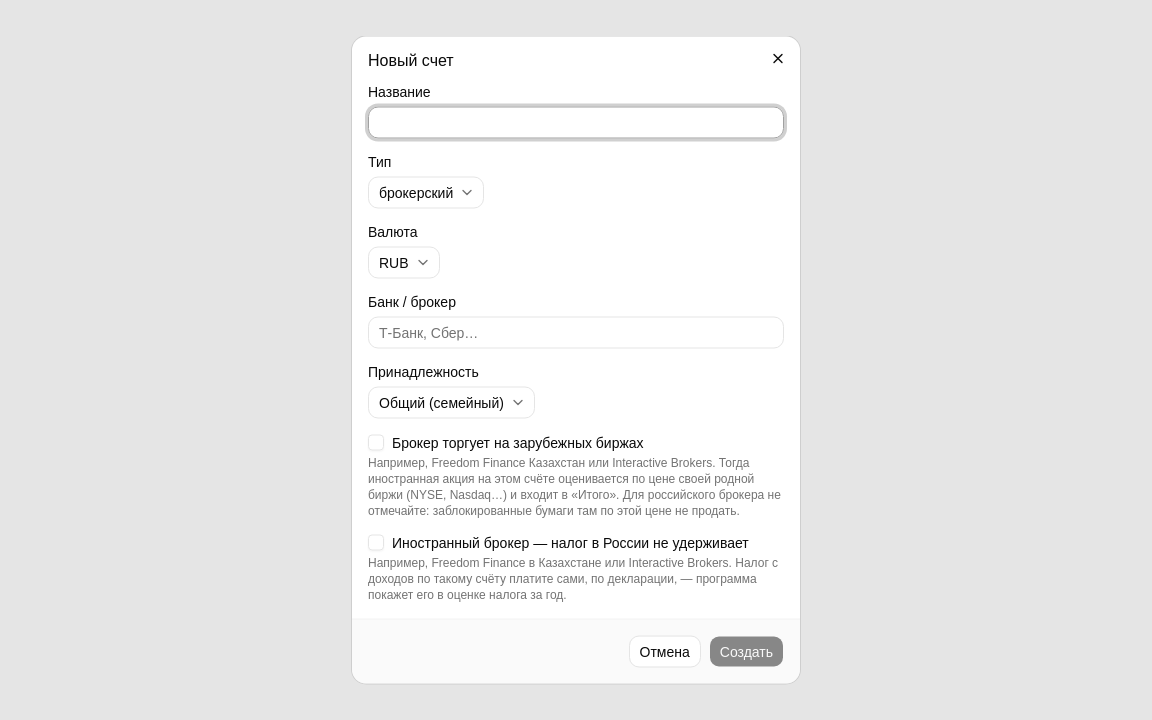
Test: AccountDialog — a refusal from the server › says a new account was not created, in Russian
The image size is (1152, 720).
Type "Новый" into the field labelled "Название" at (576, 122), box [368, 106, 784, 138]
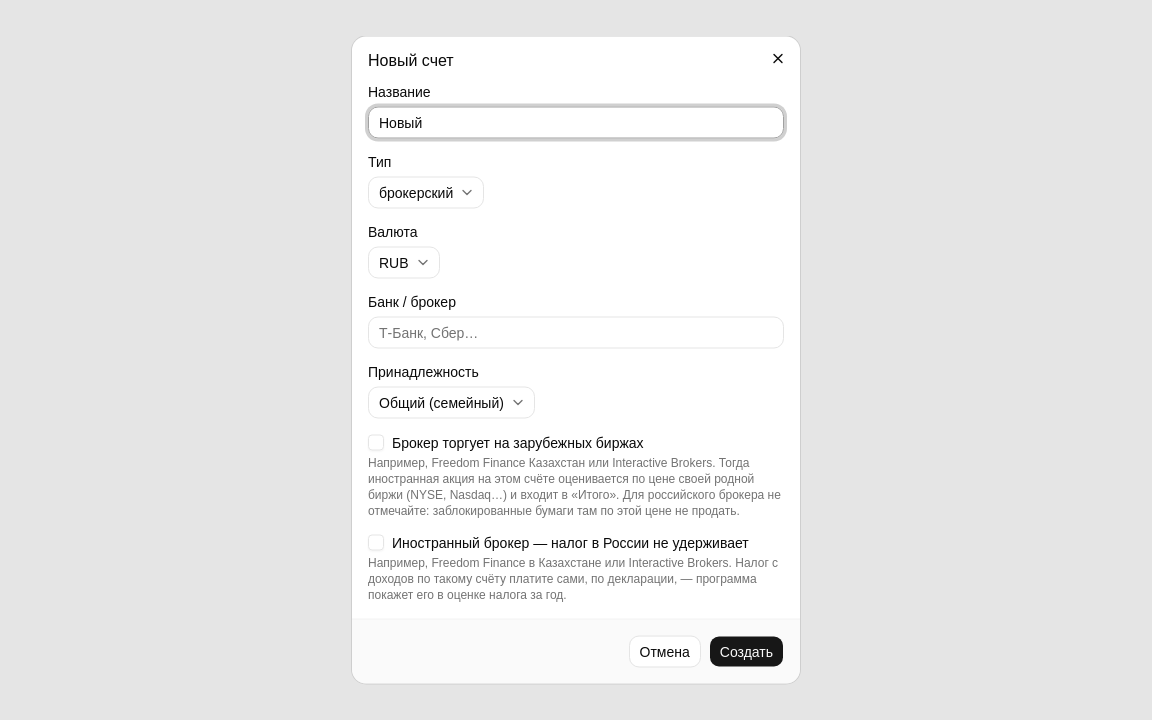
Click the button "Создать" at (746, 652), box [709, 636, 784, 668]
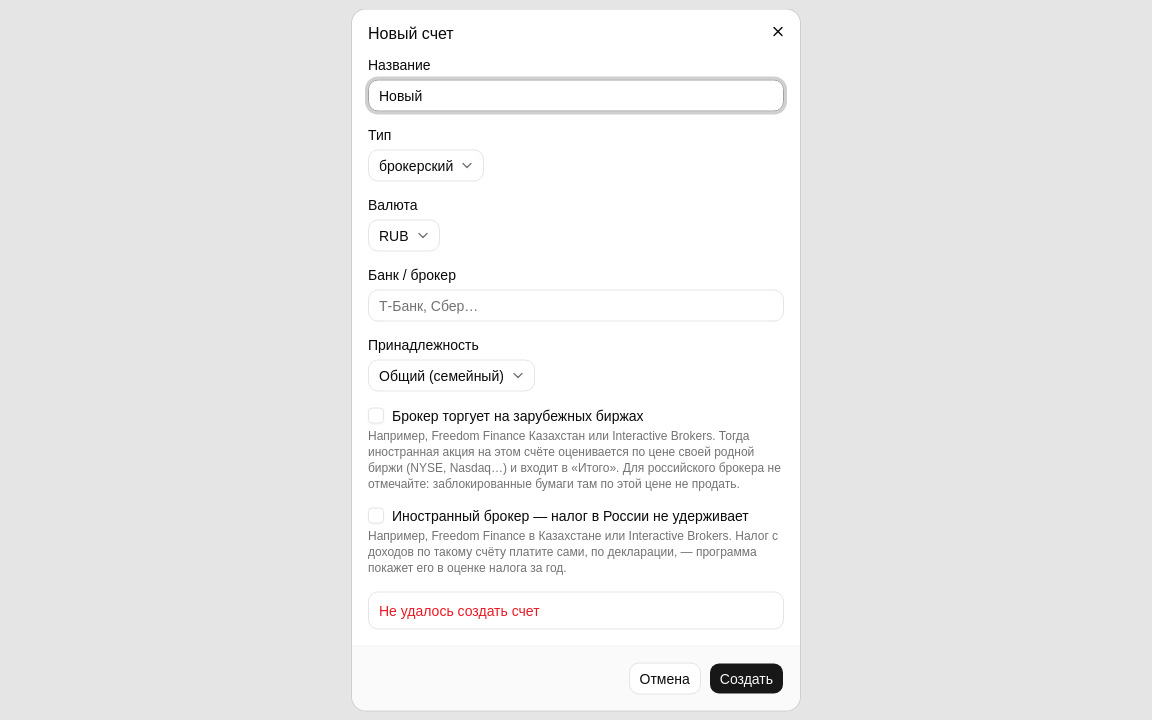
expect the text "Не удалось создать счет" is shown: met, box [379, 602, 540, 618]
